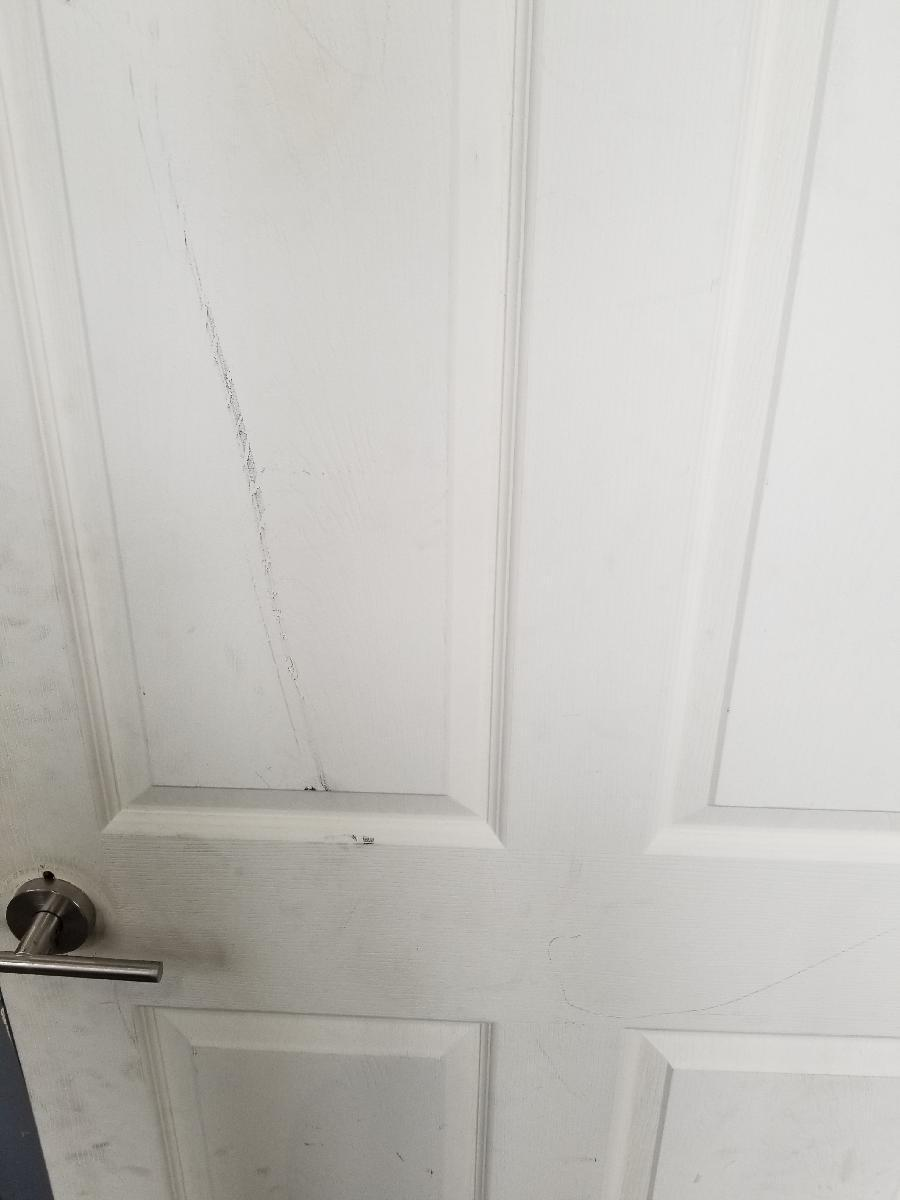door: (16, 11, 887, 1189)
handle: (0, 858, 172, 991)
